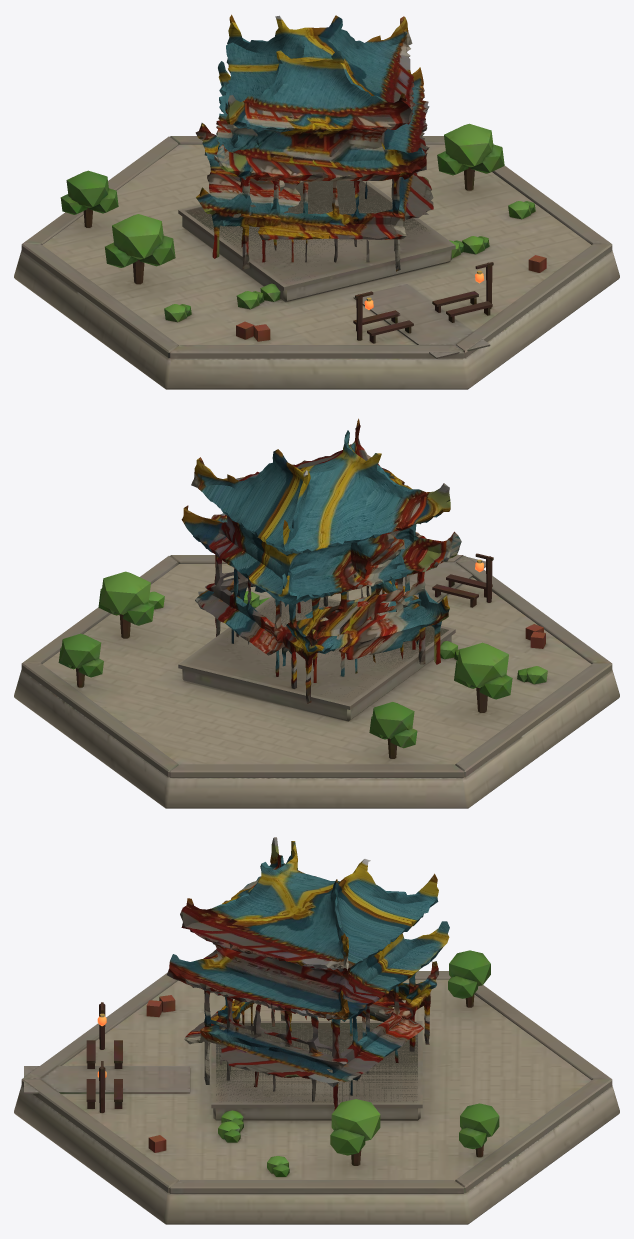
The model's file is b_guild.glb.
3 renders of one model, top to bottom at view 1: azimuth 30°, elevation 25°; view 2: azimuth 150°, elevation 25°; view 3: azimuth 270°, elevation 25°, orthographic.
Parts seen in each view (by area): view 1: b_guild, geometry_0; view 2: b_guild, geometry_0; view 3: b_guild, geometry_0.
Part boxes in pixels (x1,y1,x2,y2): b_guild: (14, 123, 619, 389); geometry_0: (195, 14, 433, 271); b_guild: (14, 553, 619, 808); geometry_0: (181, 418, 461, 703); b_guild: (14, 950, 619, 1224); geometry_0: (167, 837, 449, 1110).
Bounding box in the file's own units: 8.1 × 4.23 × 9.31.
3 materials, 2 textured.
